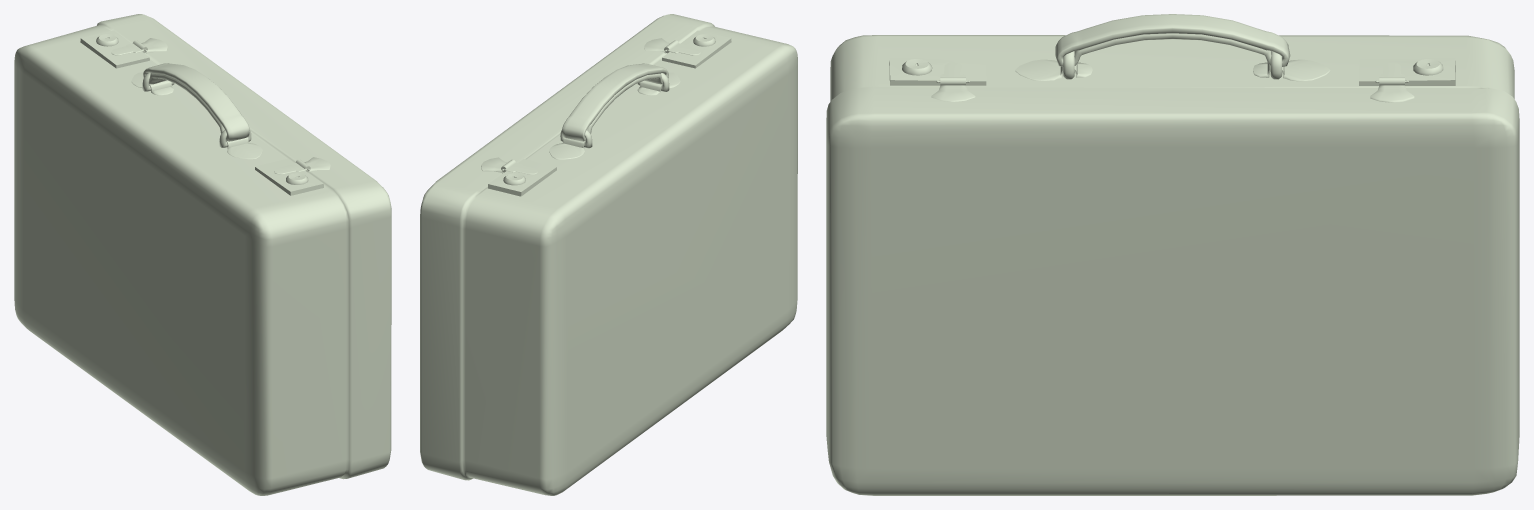
File: Suitcase.fbx
The picture shows the model from 3 angles, left to right: view 1: azimuth 30°, elevation 25°; view 2: azimuth 150°, elevation 25°; view 3: azimuth 270°, elevation 25°; orthographic projection. The views are drawn at different scales.
Visible parts, largest first — view 1: base suitcase_low; view 2: base suitcase_low; view 3: base suitcase_low.
Part boxes in pixels (x1=…): base suitcase_low: x1=14, y1=14, x2=391, y2=495; base suitcase_low: x1=420, y1=14, x2=797, y2=495; base suitcase_low: x1=826, y1=14, x2=1519, y2=495.
Bounding box in the file's own units: 21.39 × 49.15 × 70.43.
